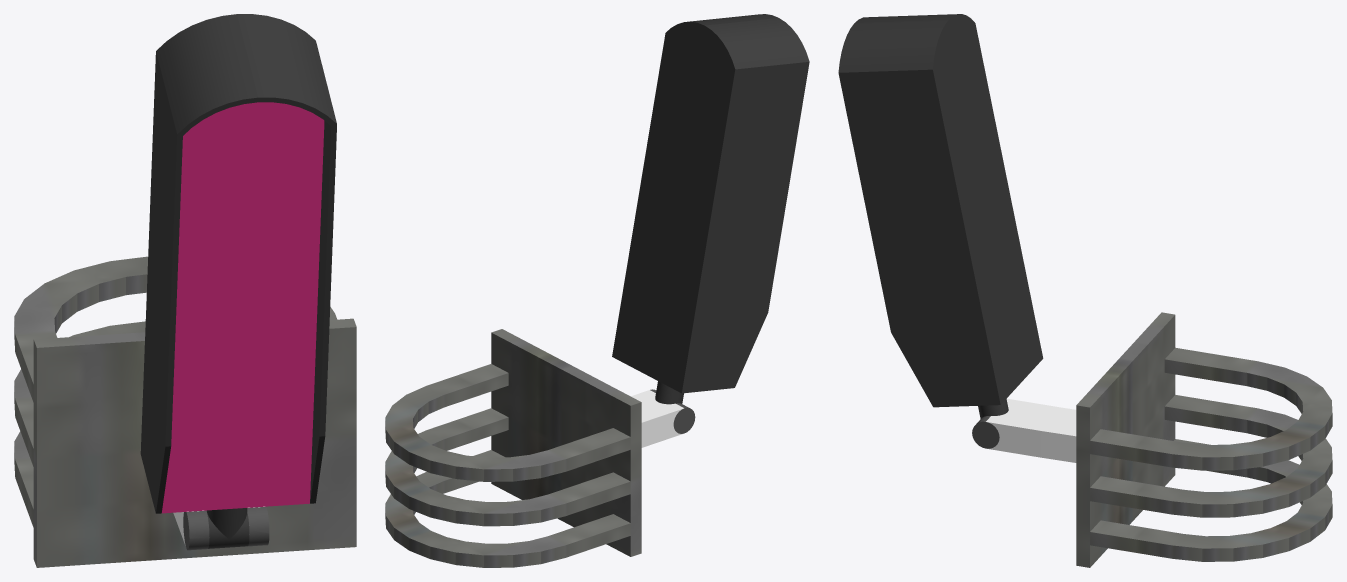
Rendered from sensor-receptor.fbx.
The picture shows the model from 3 angles, left to right: view 1: azimuth 30°, elevation 25°; view 2: azimuth 150°, elevation 25°; view 3: azimuth 270°, elevation 25°; orthographic projection. The views are drawn at different scales.
Parts seen in each view (by area): view 1: Componente_3_1, Componente_1_1, Al_a1, Componente_4_1, Al_a3, Al_a2; view 2: Componente_3_1, Componente_1_1, Al_a1, Al_a3, Al_a2, Componente_4_1; view 3: Componente_3_1, Componente_1_1, Al_a1, Al_a3, Al_a2, Componente_4_1.
Part boxes in pixels (x1=…): Componente_3_1: x1=140, y1=14, x2=336, y2=548; Componente_1_1: x1=33, y1=318, x2=356, y2=567; Al_a1: x1=14, y1=256, x2=337, y2=402; Componente_4_1: x1=173, y1=506, x2=269, y2=550; Al_a3: x1=14, y1=321, x2=145, y2=466; Al_a2: x1=14, y1=431, x2=33, y2=527; Componente_3_1: x1=612, y1=14, x2=809, y2=404; Componente_1_1: x1=491, y1=329, x2=641, y2=556; Al_a1: x1=385, y1=364, x2=630, y2=481; Al_a3: x1=385, y1=408, x2=630, y2=526; Al_a2: x1=385, y1=450, x2=630, y2=567; Componente_4_1: x1=631, y1=389, x2=695, y2=447; Componente_3_1: x1=838, y1=14, x2=1043, y2=418; Componente_1_1: x1=1076, y1=312, x2=1175, y2=567; Al_a1: x1=1090, y1=347, x2=1332, y2=470; Al_a3: x1=1090, y1=395, x2=1332, y2=517; Al_a2: x1=1090, y1=439, x2=1332, y2=561; Componente_4_1: x1=972, y1=398, x2=1076, y2=462.
Size of the model in its own units: 209 by 353 by 335.
